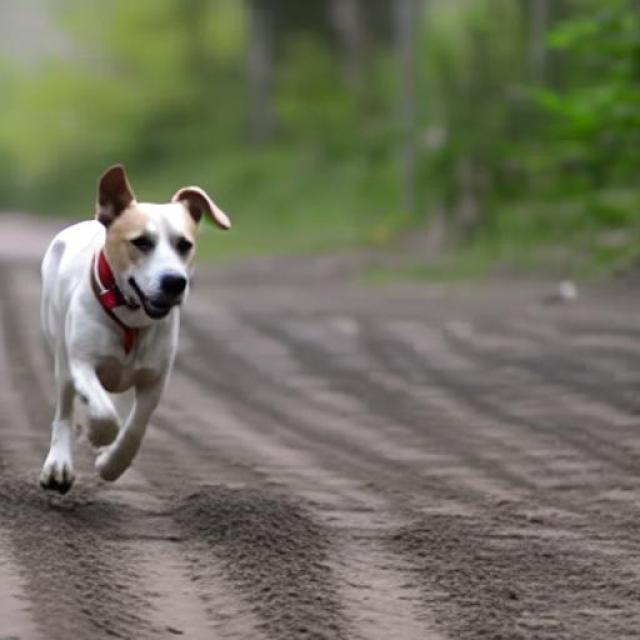Dog: (37, 162, 232, 494)
